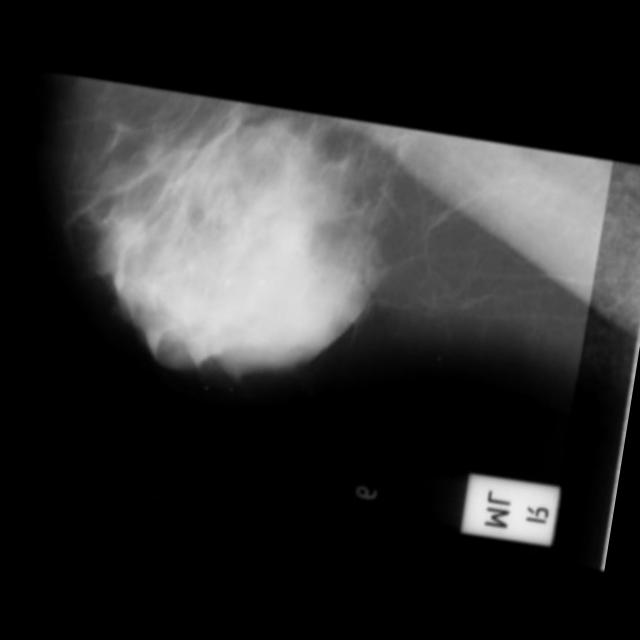CIRC: (127, 254, 225, 352)
